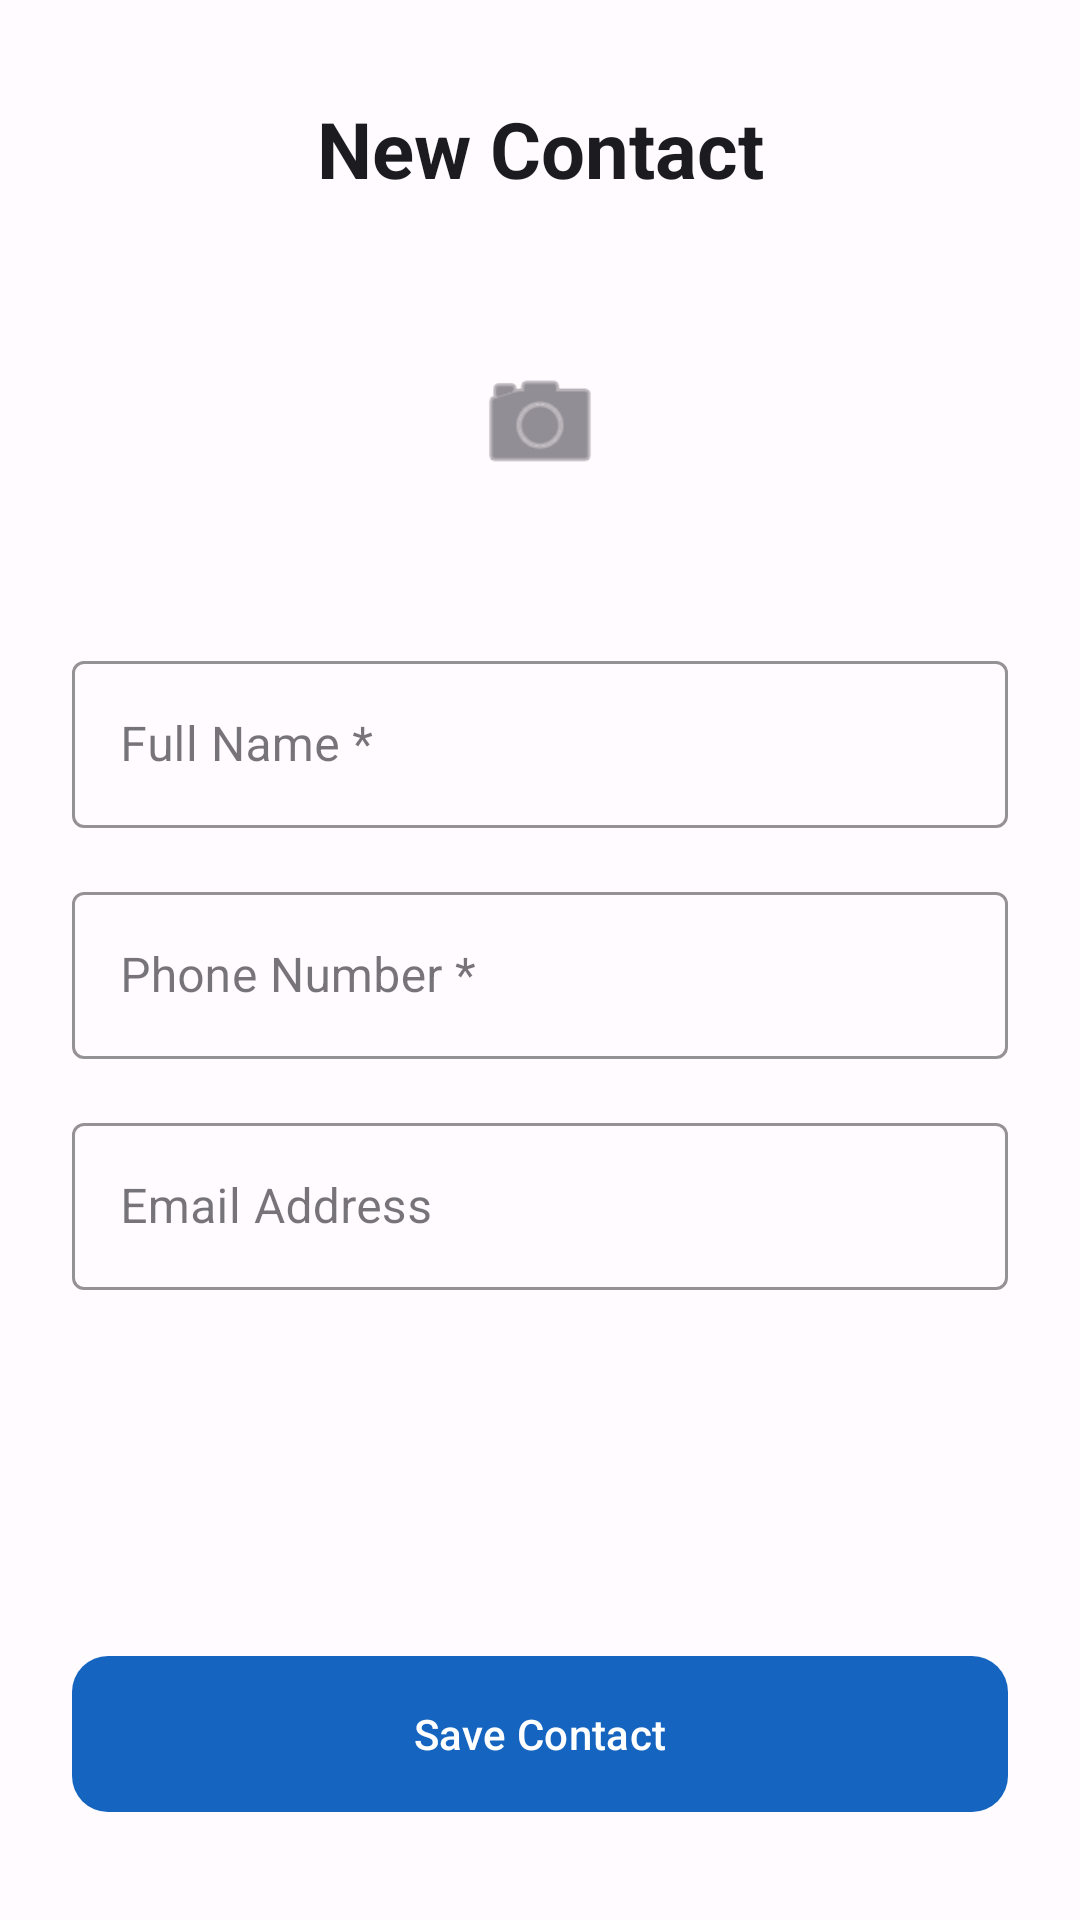

Screen size 1080w x 1920h. Icon name, then its box in pixels as Rect(x1, y1, x2, y2):
Add photo: Rect(489, 380, 591, 461)
